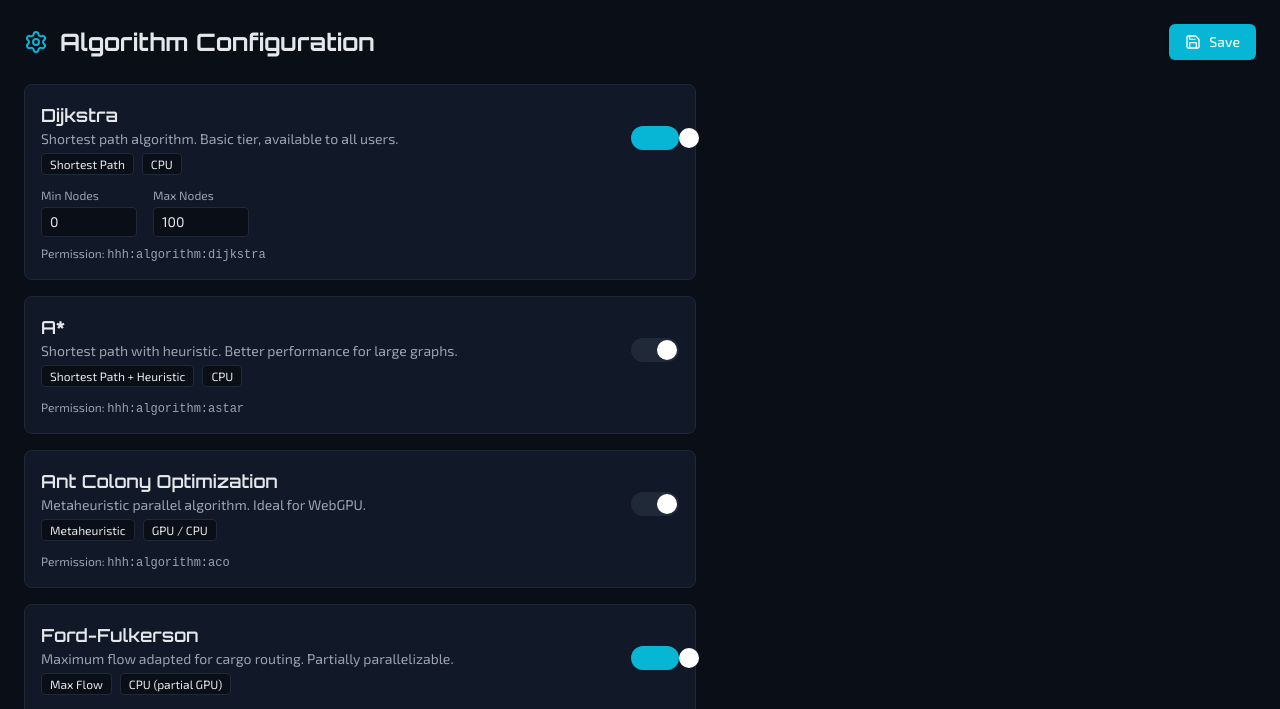
Scenario: AlgorithmConfigPage › shows saving state while PUT is in progress
Expected: the heading "Dijkstra" is shown, [41, 104, 118, 126]
Click the button "Save" at coordinates (1213, 42), box [1169, 24, 1256, 60]
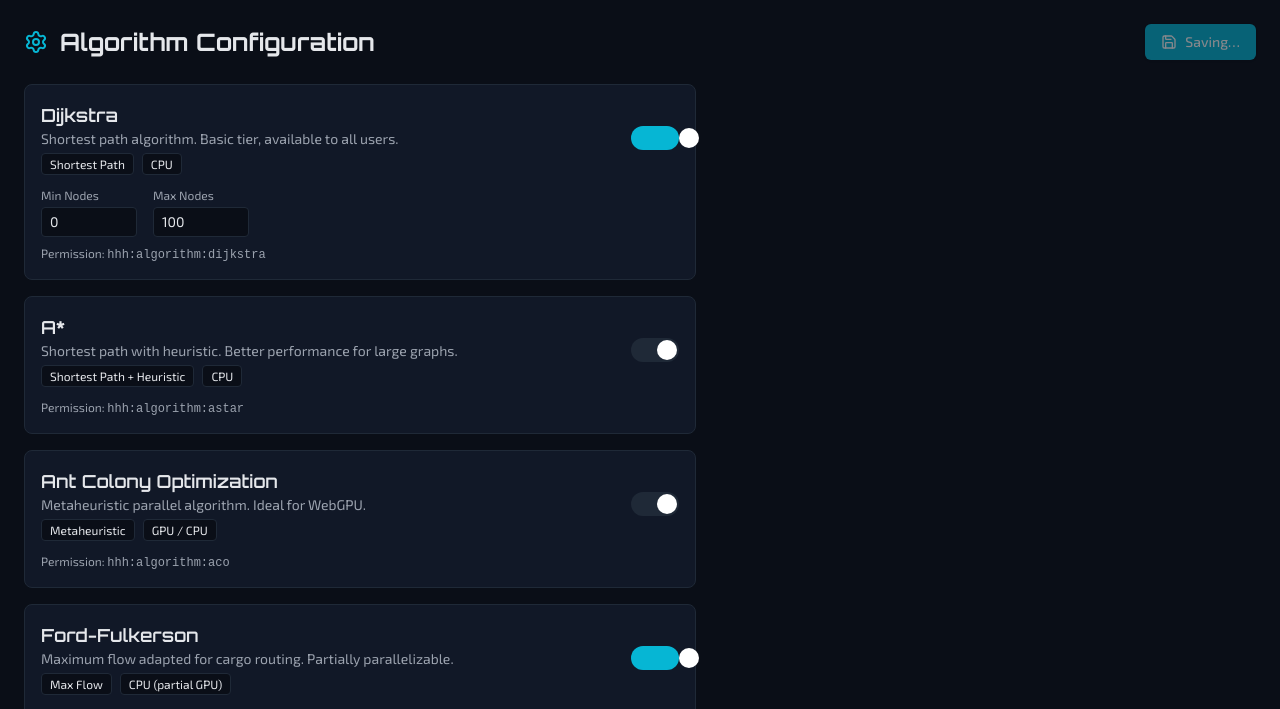
Result: the button "Saving…" is disabled at [1145, 24, 1256, 60]
